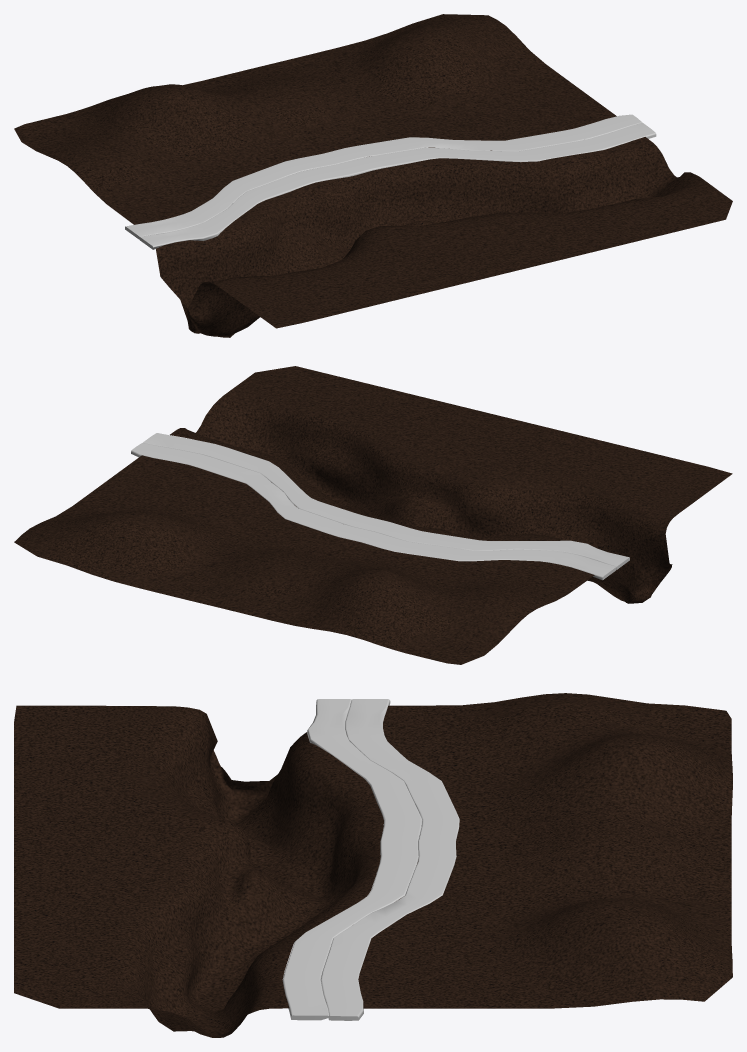
Rendered from Forest.fbx.
The picture shows the model from 3 angles, top to bottom: view 1: azimuth 30°, elevation 25°; view 2: azimuth 150°, elevation 25°; view 3: azimuth 270°, elevation 25°; orthographic projection. The views are drawn at different scales.
Visible parts, largest first — view 1: LowPolyForestPlain, ForestPath1, ForestPath1.001; view 2: LowPolyForestPlain, ForestPath1.001, ForestPath1; view 3: LowPolyForestPlain, ForestPath1.001, ForestPath1.
Boxes of the visible parts, <box> form: LowPolyForestPlain: <box>14,14,732,337</box>; ForestPath1: <box>139,122,656,249</box>; ForestPath1.001: <box>125,114,641,239</box>; LowPolyForestPlain: <box>14,366,732,664</box>; ForestPath1.001: <box>131,443,616,580</box>; ForestPath1: <box>143,433,629,569</box>; LowPolyForestPlain: <box>14,693,732,1037</box>; ForestPath1.001: <box>321,699,459,1020</box>; ForestPath1: <box>282,699,422,1020</box>.
Size of the model in its own units: 1183 by 253 by 1126.
